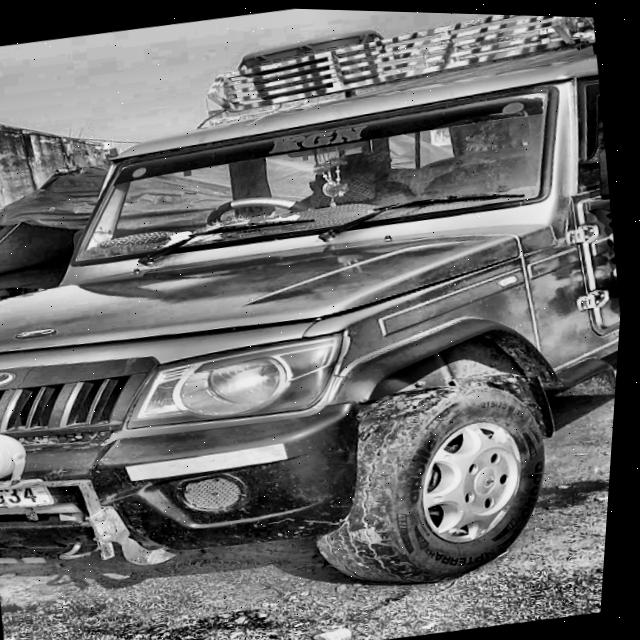light_vehicle: (0, 30, 638, 558)
